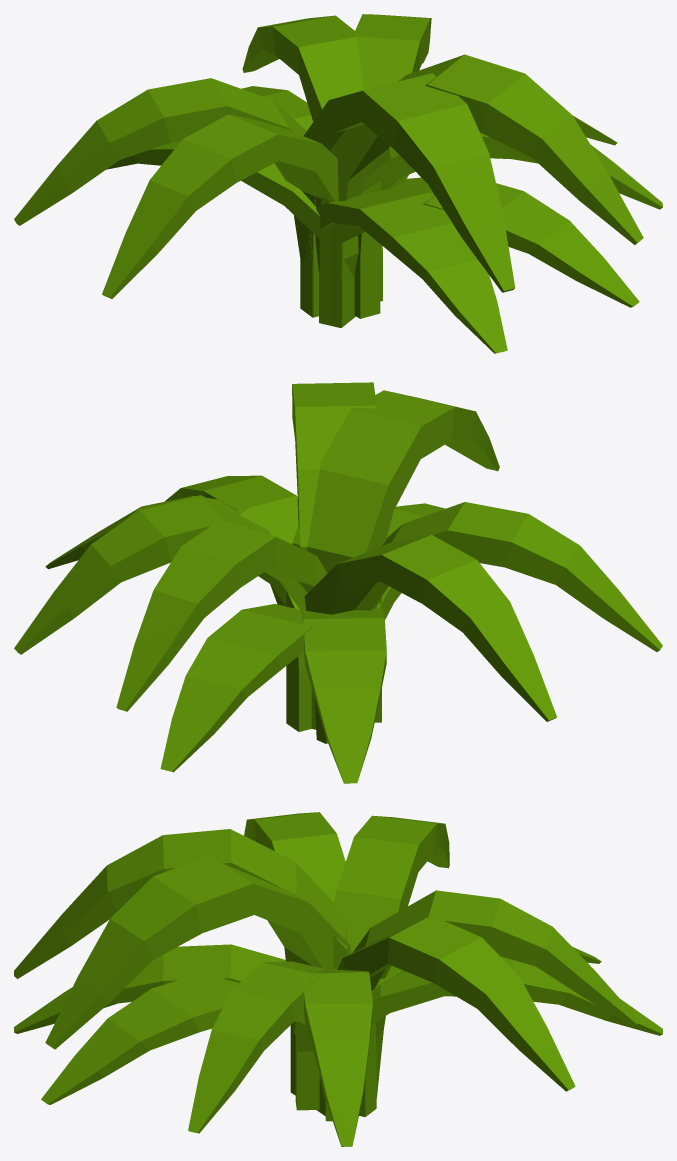
File: rumput.fbx
The picture shows the model from 3 angles, top to bottom: view 1: azimuth 30°, elevation 25°; view 2: azimuth 150°, elevation 25°; view 3: azimuth 270°, elevation 25°; orthographic projection. The views are drawn at different scales.
Parts seen in each view (by area): view 1: Cube.003; view 2: Cube.003; view 3: Cube.003.
Boxes of the visible parts, box(x1,y1,x2,y2) form: Cube.003: box(14, 14, 662, 353); Cube.003: box(14, 382, 662, 783); Cube.003: box(14, 812, 662, 1146).
Bounding box in the file's own units: 477 × 216 × 484.
